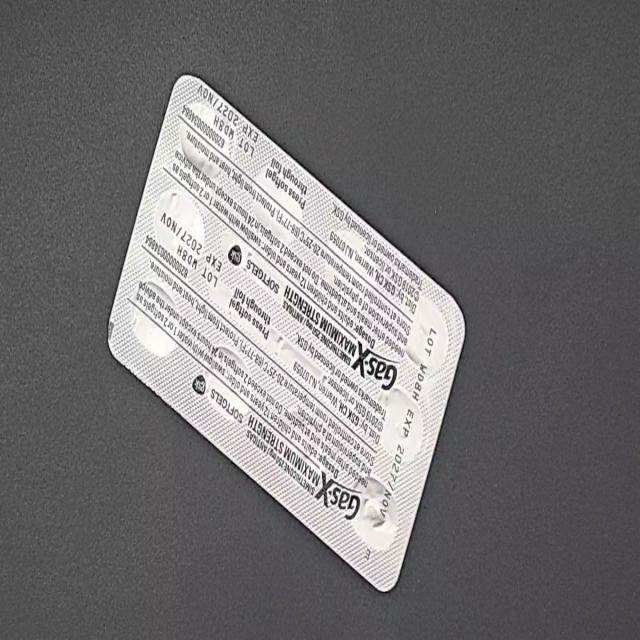no defect: (10, 18, 32, 58)
